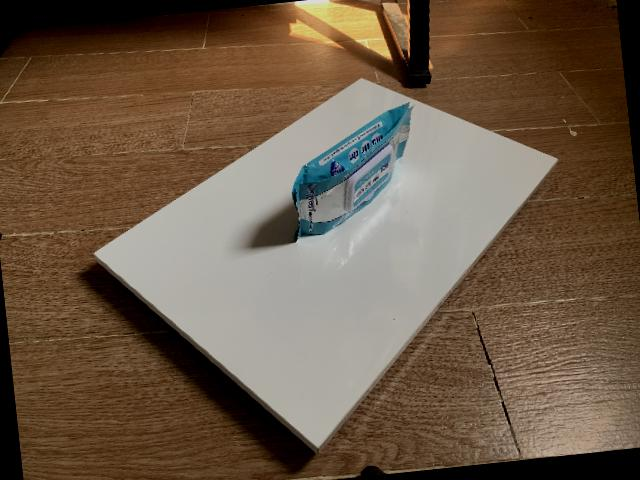Let-green_alcohol_wipes: (292, 102, 415, 242)
